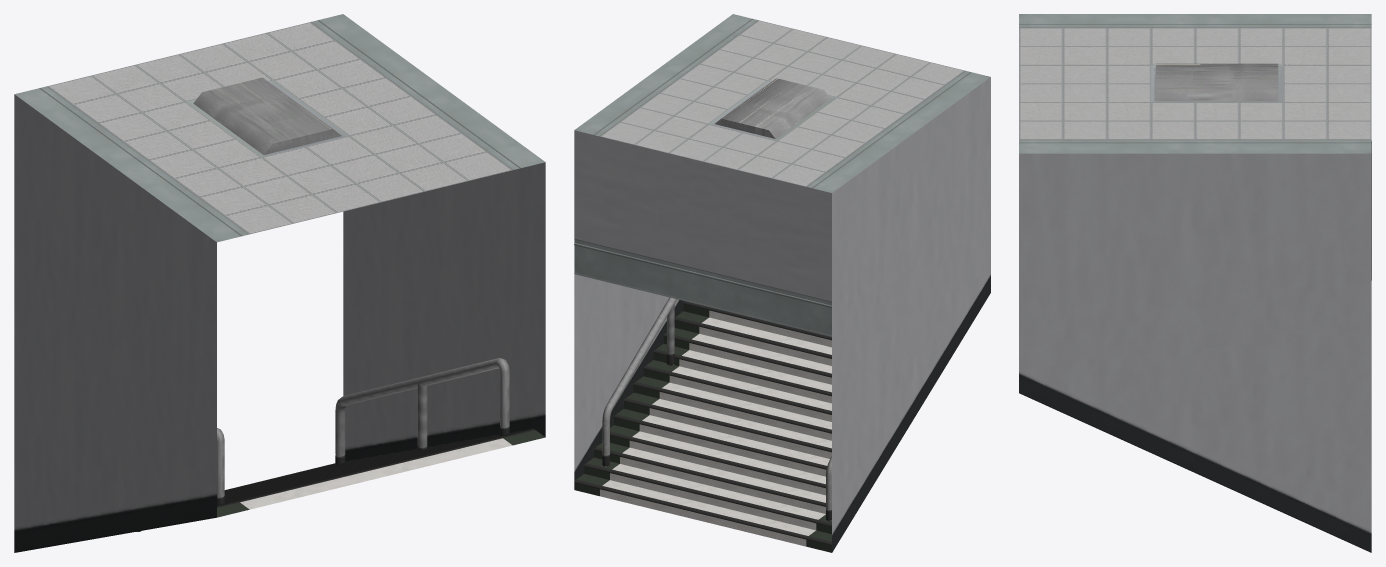
File: Stairs_Half.fbx
3 renders of one model, left to right at view 1: azimuth 30°, elevation 25°; view 2: azimuth 150°, elevation 25°; view 3: azimuth 270°, elevation 25°, orthographic. The views are drawn at different scales.
Visible parts, largest first — view 1: Stairs_Half; view 2: Stairs_Half; view 3: Stairs_Half.
Boxes of the visible parts, bbox=[...] form: Stairs_Half: bbox=[14, 14, 545, 552]; Stairs_Half: bbox=[574, 14, 990, 552]; Stairs_Half: bbox=[1019, 14, 1371, 552].
Size of the model in its own units: 3.75 by 5.09 by 4.
Materials: 7 (6 with a texture image).
